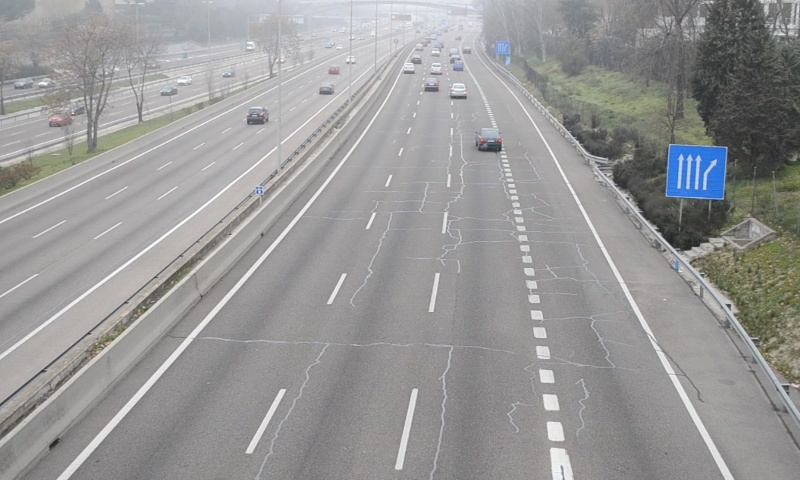car: (476, 127, 503, 152), (448, 82, 468, 100)
